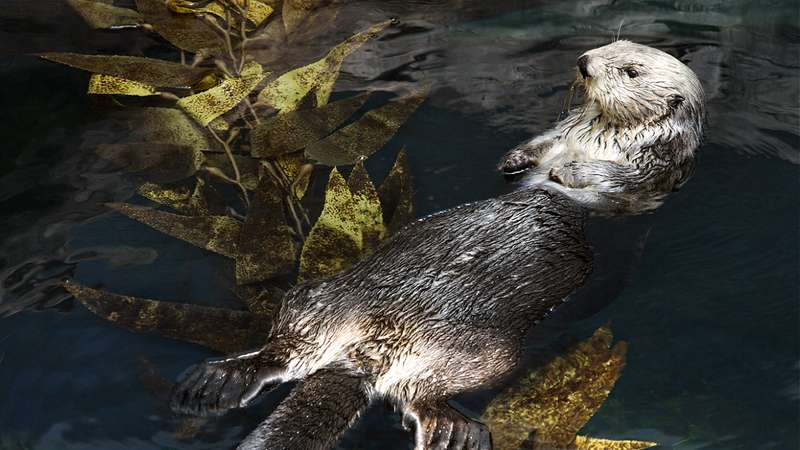otter: (277, 42, 711, 388)
